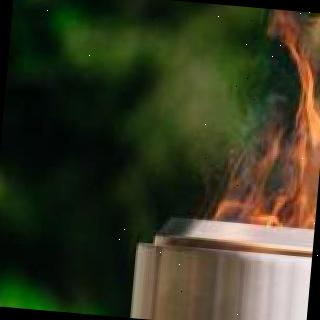fire: (224, 18, 320, 237)
